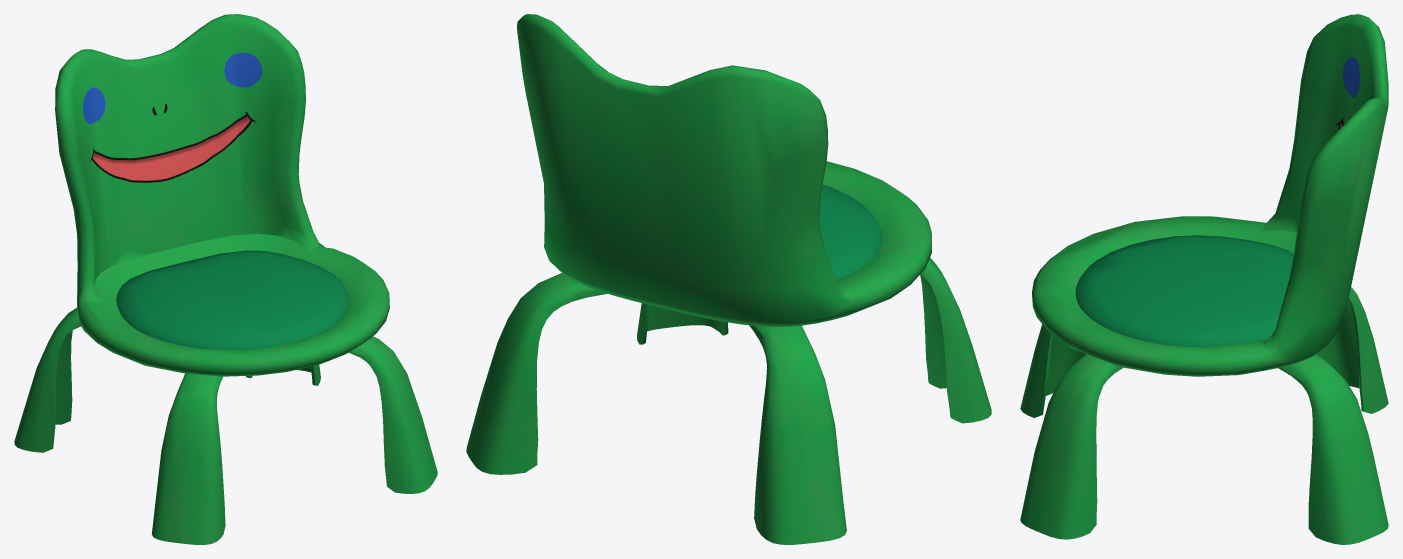
File: chairFrog.glb
3 renders of one model, left to right at view 1: azimuth 30°, elevation 25°; view 2: azimuth 150°, elevation 25°; view 3: azimuth 270°, elevation 25°, orthographic. The views are drawn at different scales.
Parts seen in each view (by area): view 1: chairFrog; view 2: chairFrog; view 3: chairFrog.
Part boxes in pixels (box(x1,y1,x2,y2)): chairFrog: box(14, 14, 437, 544); chairFrog: box(466, 14, 991, 544); chairFrog: box(1020, 14, 1388, 544).
Size of the model in its own units: 0.4624 by 0.5402 by 0.4465.
2 materials, 1 textured.
